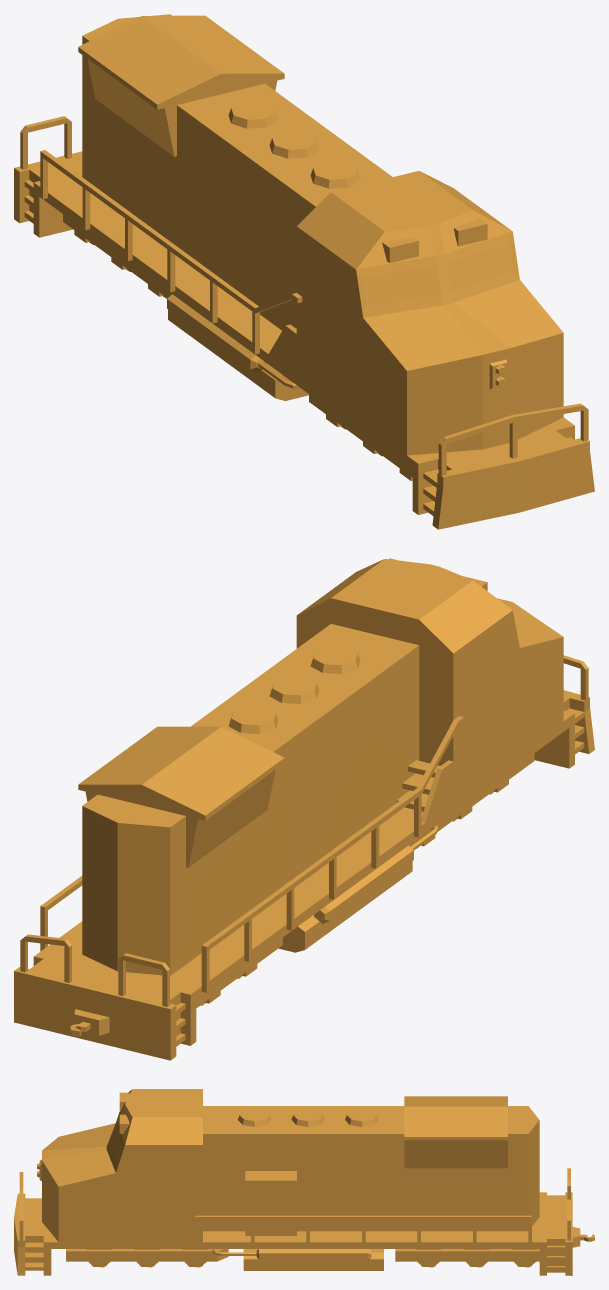
The model's file is train-freight-big.glb.
The picture shows the model from 3 angles, top to bottom: view 1: azimuth 30°, elevation 25°; view 2: azimuth 150°, elevation 25°; view 3: azimuth 270°, elevation 25°; orthographic projection. The views are drawn at different scales.
Parts seen in each view (by area): view 1: train-freight-big-base, train-freight-big-base-wheel-frame_B, train-freight-big-base-wheel-frame_F; view 2: train-freight-big-base, train-freight-big-base-wheel-frame_F, train-freight-big-base-wheel-frame_B; view 3: train-freight-big-base, train-freight-big-base-wheel-frame_F, train-freight-big-base-wheel-frame_B.
Boxes of the visible parts, bbox=[...] form: train-freight-big-base: bbox=[14, 14, 594, 529]; train-freight-big-base-wheel-frame_B: bbox=[63, 214, 171, 297]; train-freight-big-base-wheel-frame_F: bbox=[309, 394, 412, 480]; train-freight-big-base: bbox=[14, 558, 594, 1060]; train-freight-big-base-wheel-frame_F: bbox=[409, 753, 534, 846]; train-freight-big-base-wheel-frame_B: bbox=[196, 937, 282, 1008]; train-freight-big-base: bbox=[14, 1089, 594, 1275]; train-freight-big-base-wheel-frame_F: bbox=[66, 1249, 228, 1266]; train-freight-big-base-wheel-frame_B: bbox=[395, 1249, 539, 1266].
Bounding box in the file's own units: 3.4 × 4.56 × 15.71.
